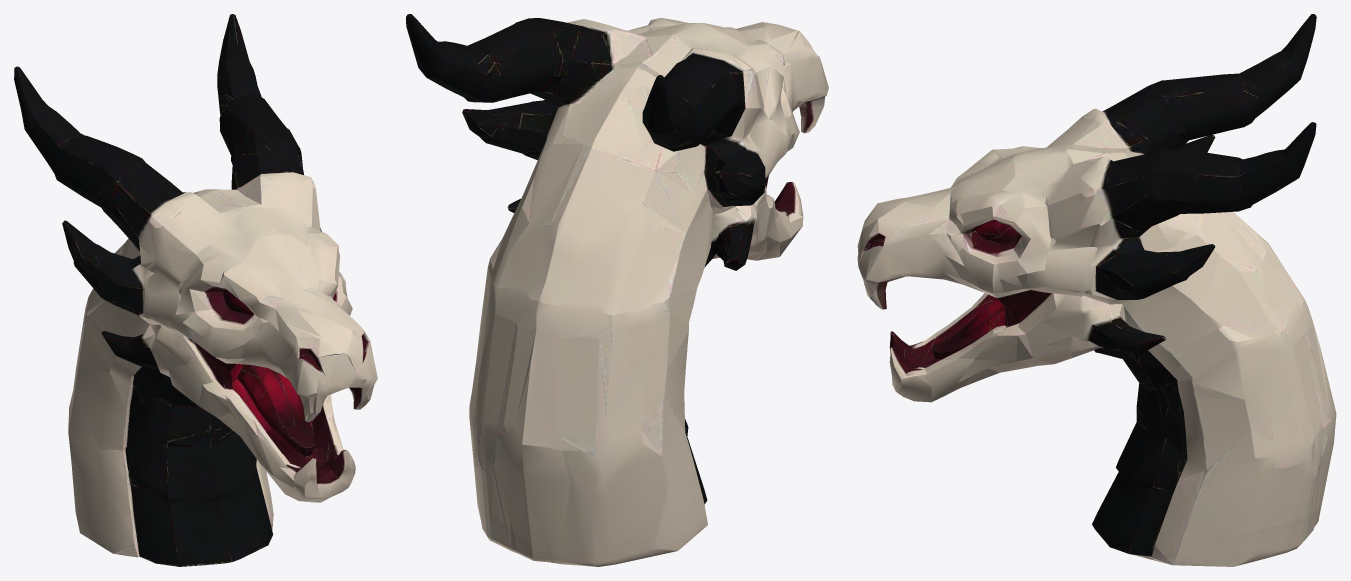
The model's file is serpenthead.glb.
3 views of the same model, side by side, from view 1: azimuth 30°, elevation 25°; view 2: azimuth 150°, elevation 25°; view 3: azimuth 270°, elevation 25° (orthographic). The views are drawn at different scales.
Visible parts, largest first — view 1: mesh_node; view 2: mesh_node; view 3: mesh_node.
Part boxes in pixels (<box>): mesh_node: <box>14,14,377,566</box>; mesh_node: <box>406,14,828,566</box>; mesh_node: <box>857,14,1336,566</box>.
Size of the model in its own units: 1.06 by 1.9 by 1.81.
1 material, 1 textured.
